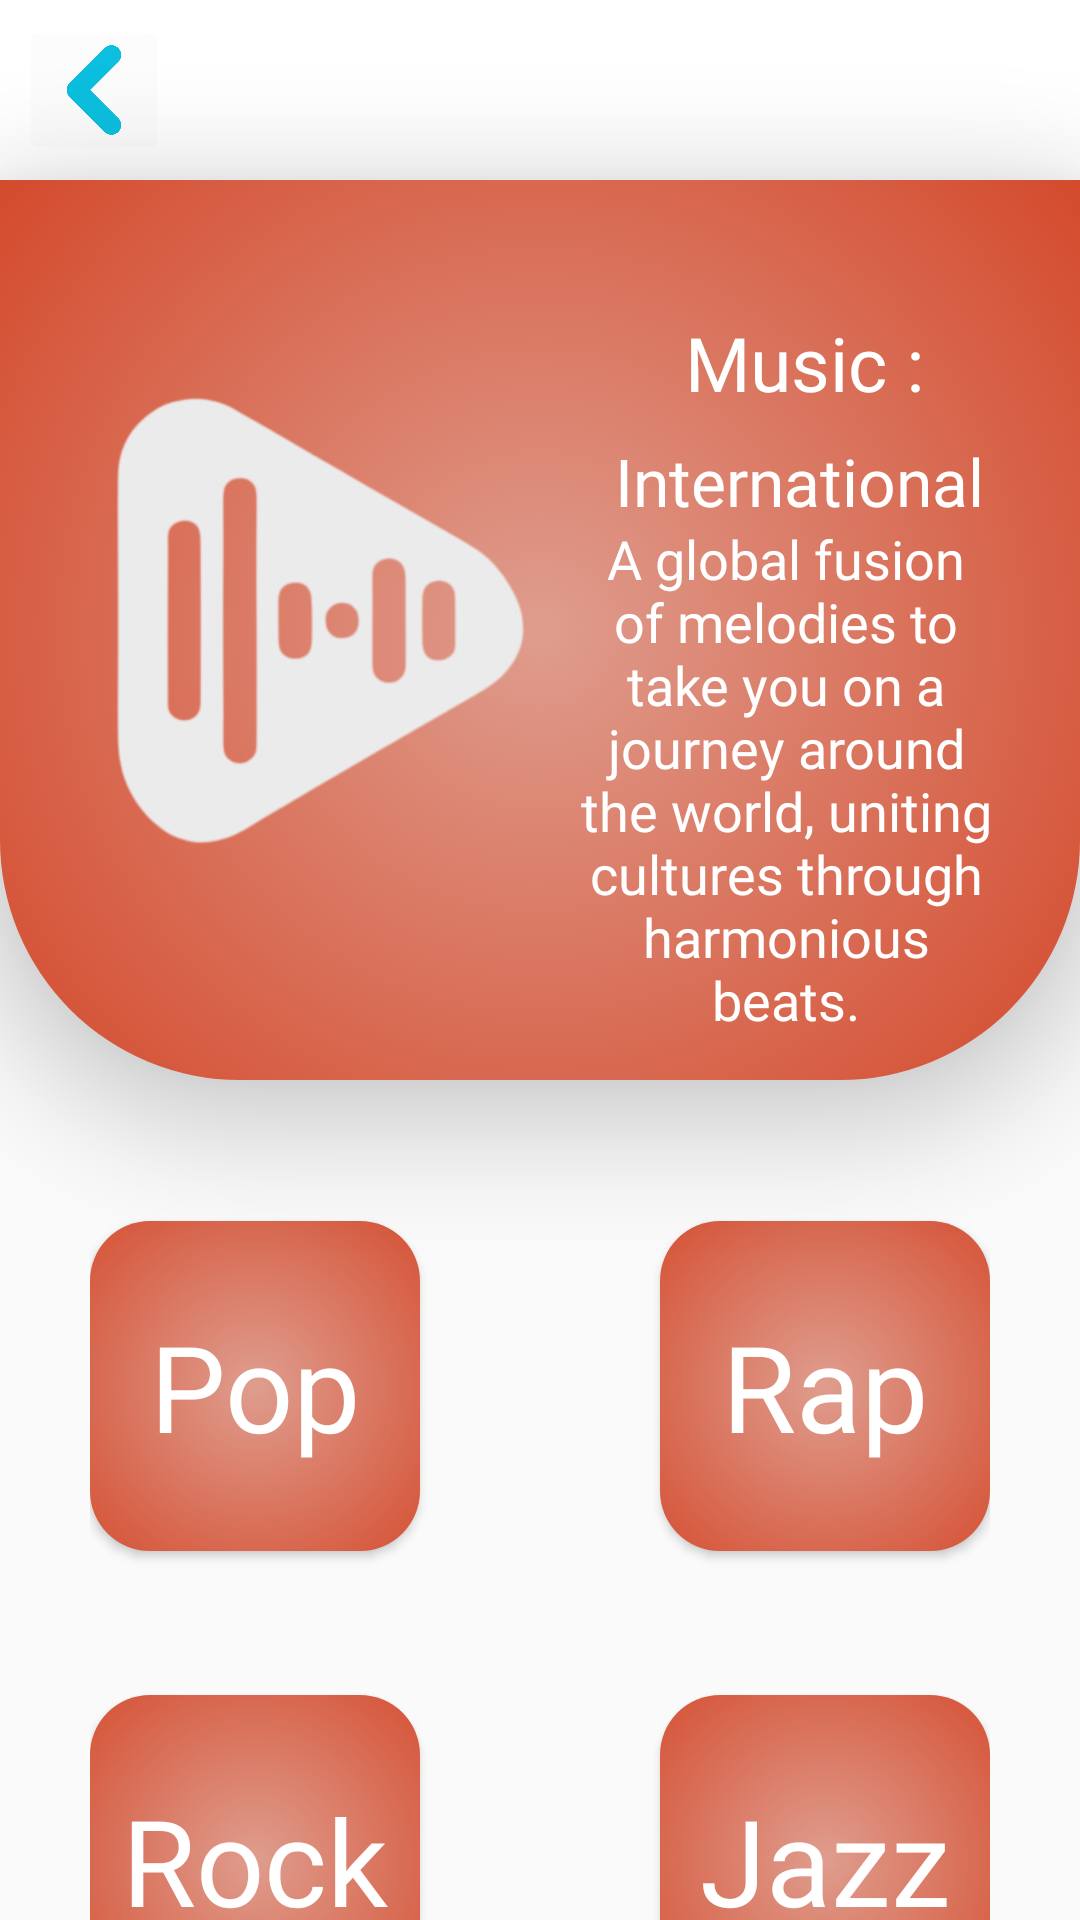

Where to tap for icons on this 1080 × 1920 app screen, as (x=x, y=y):
back: (x=94, y=90)
